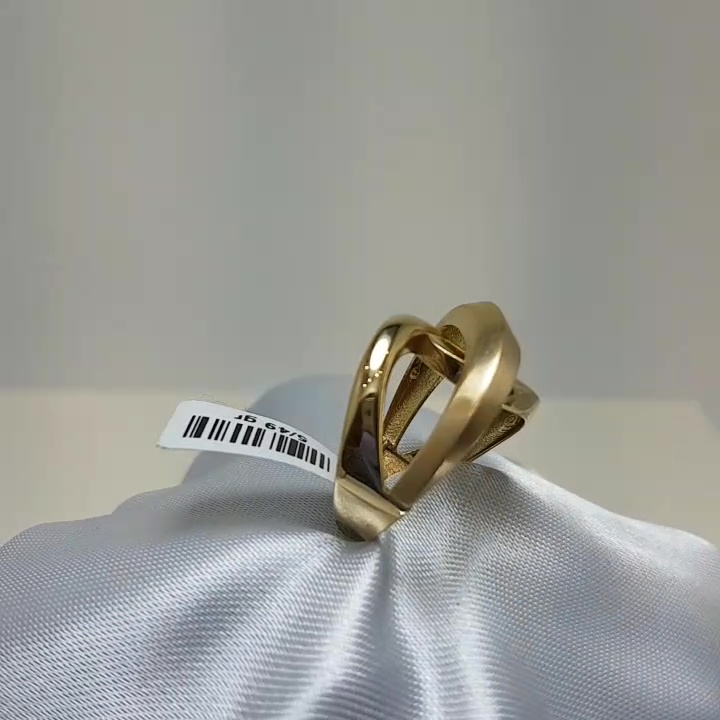Ring 3: (284, 284, 563, 555)
